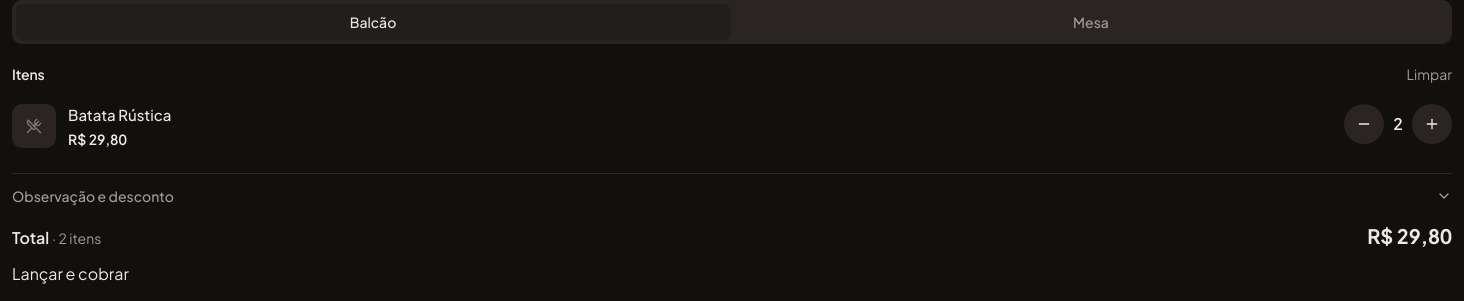
Test: OrderTicket › changes quantities, updates the total and removes items
This screenshot has width=1464, height=301.
Check: the text "R$ 29,80" in the row of "Total" is shown, box [1367,222,1452,248]
Step 1. Click the button named "Aumentar Batata Rústica" → (1432, 124), box [1412,104,1452,144]
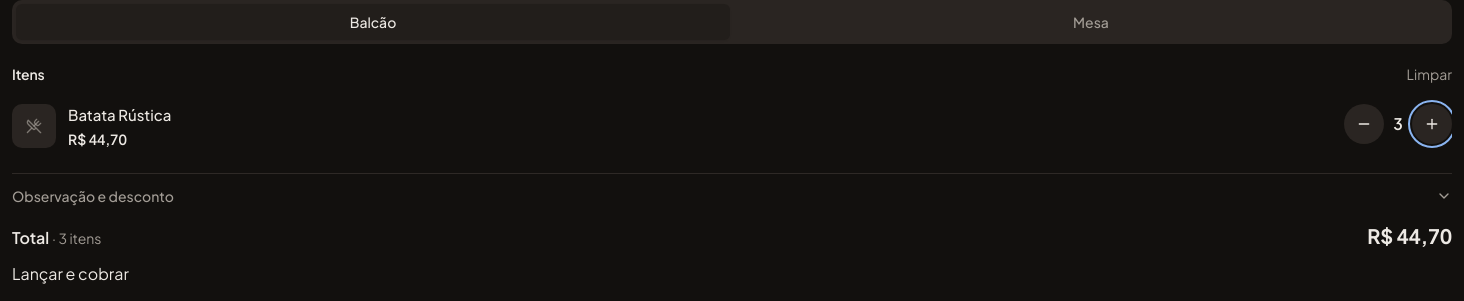
Check: the text "R$ 44,70" in the row of "Total" is shown, box [1367,222,1452,248]
Check: the text "· 3 itens" is shown, box [52,228,102,246]
Step 2. Click the button named "Diminuir Batata Rústica" → (1364, 124), box [1344,104,1384,144]
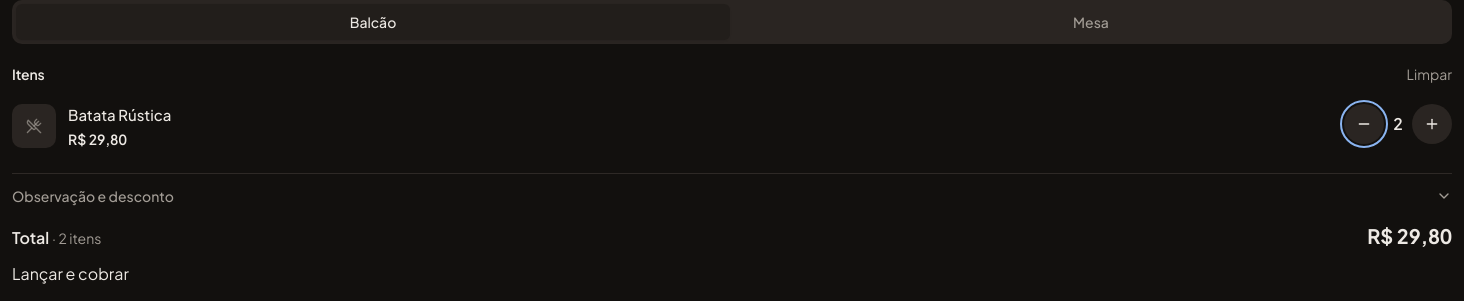
Step 3. Click the button named "Diminuir Batata Rústica" → (1364, 124), box [1344,104,1384,144]
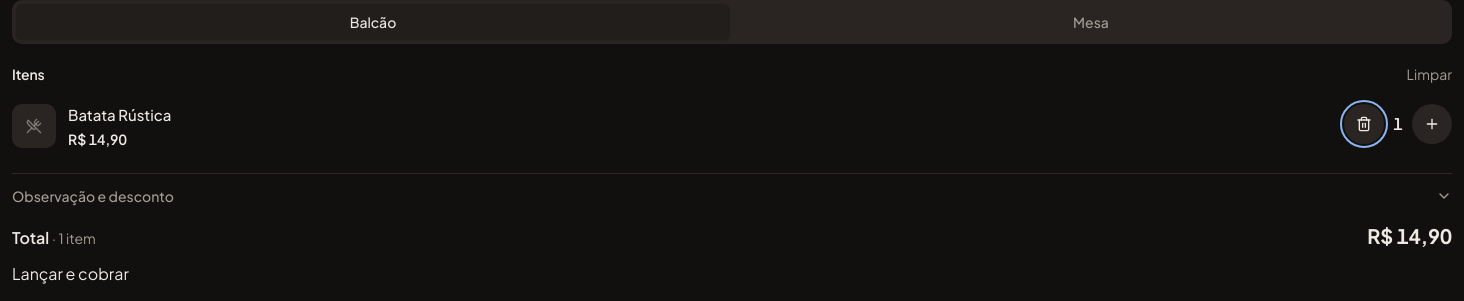
Step 4. Click the button named "Remover Batata Rústica" → (1364, 124), box [1344,104,1384,144]
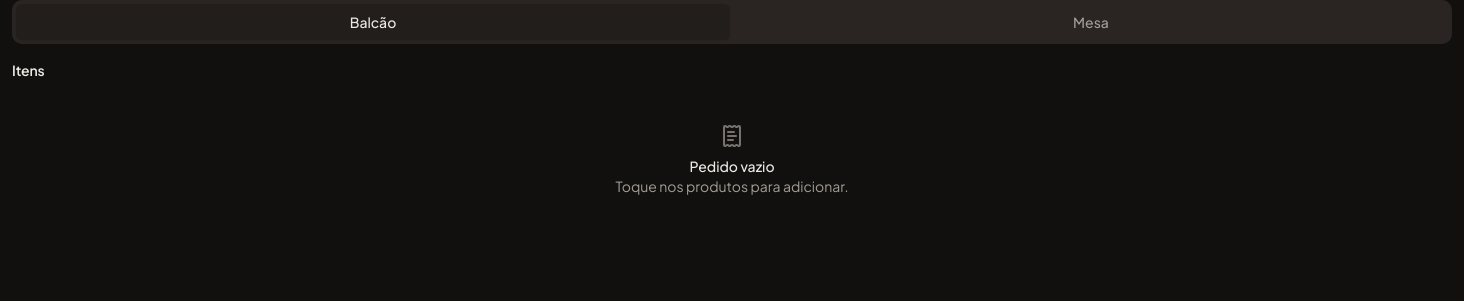
Check: the text "Pedido vazio" is shown, box [689,156,774,176]
